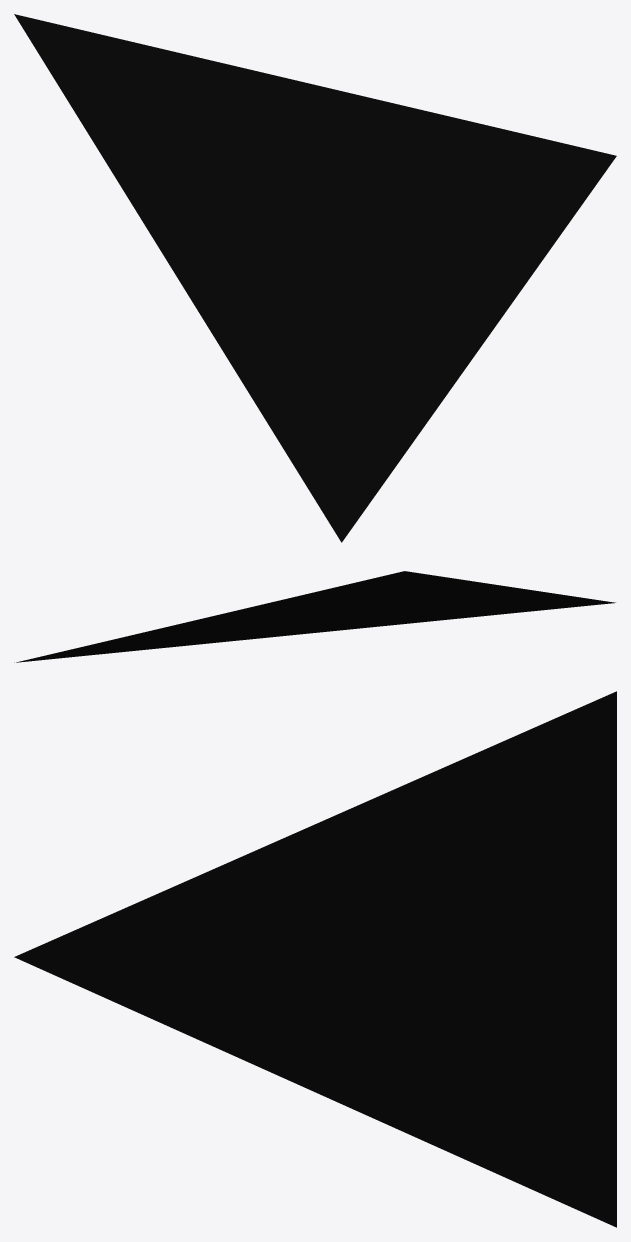
The picture shows the model from 3 angles, top to bottom: view 1: azimuth 30°, elevation 25°; view 2: azimuth 150°, elevation 25°; view 3: azimuth 270°, elevation 25°; orthographic projection. The views are drawn at different scales.
Size of the model in its own units: 0.0546 by 0.025 by 0.0514.
1 material, 1 textured.
